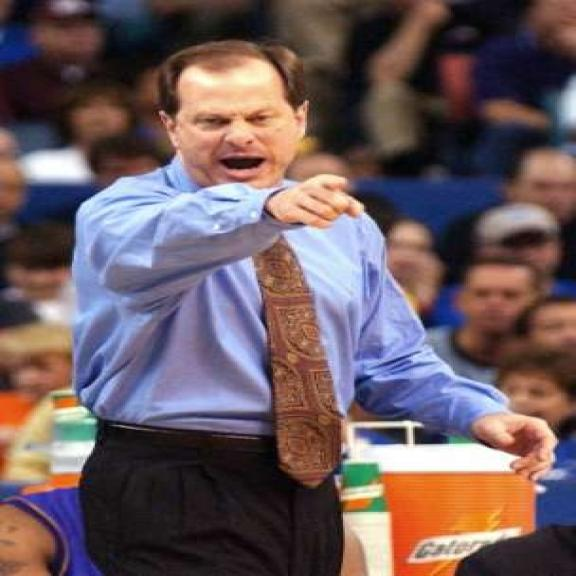face: (152, 72, 310, 196), (483, 154, 576, 222), (451, 261, 533, 336), (376, 226, 451, 302), (470, 228, 571, 275), (88, 146, 161, 209), (7, 338, 74, 402), (30, 16, 109, 61), (66, 92, 130, 146), (521, 300, 576, 362), (10, 249, 73, 302), (502, 367, 554, 428)
